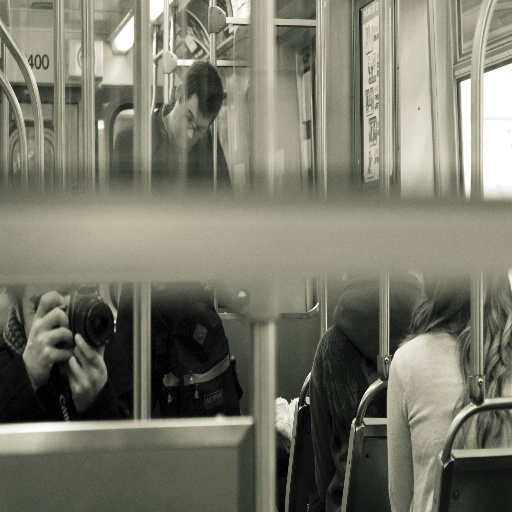hand: (20, 301, 92, 410), (63, 330, 110, 417)
